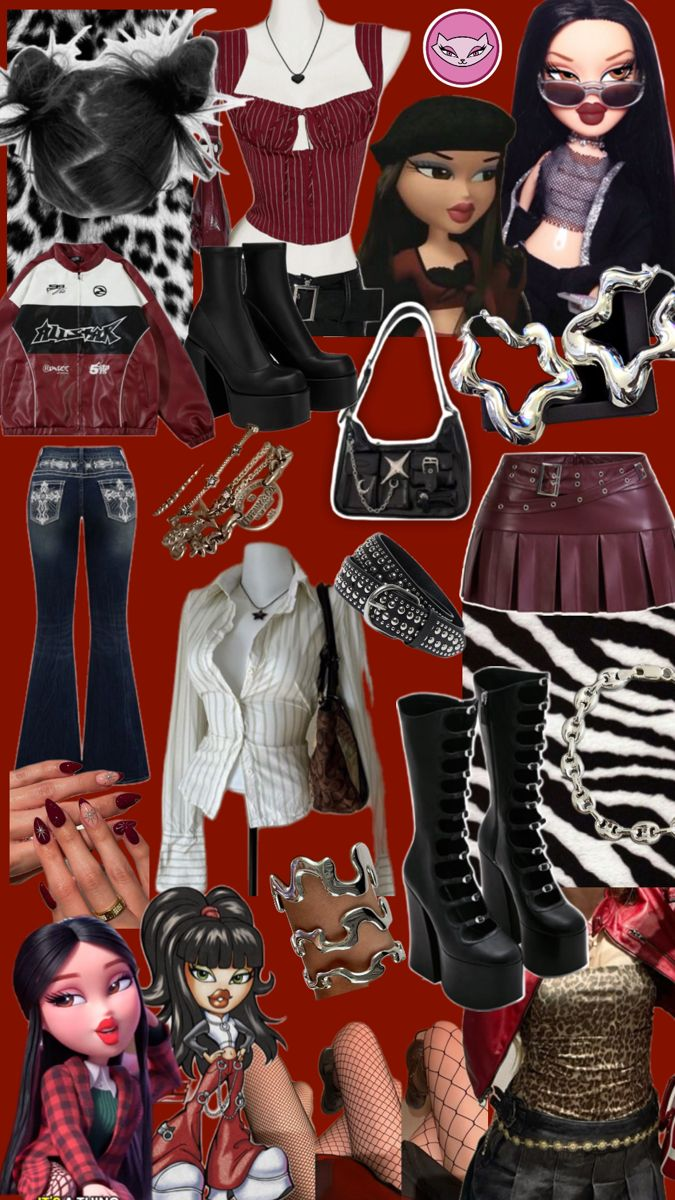Imprimante: (360, 98, 587, 322)
